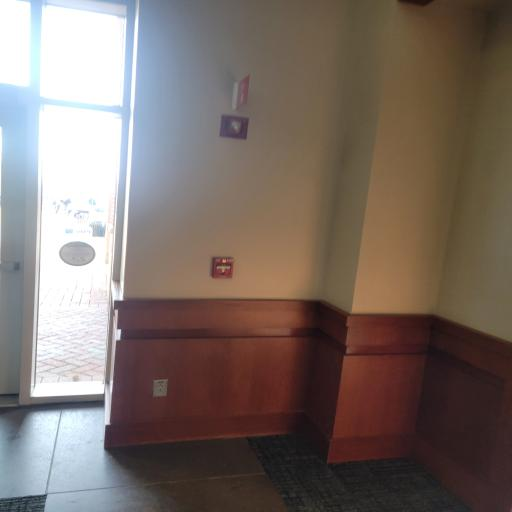fire alarm: (208, 254, 247, 283)
fire alarm signal: (212, 111, 256, 143)
outlet: (150, 373, 173, 400)
